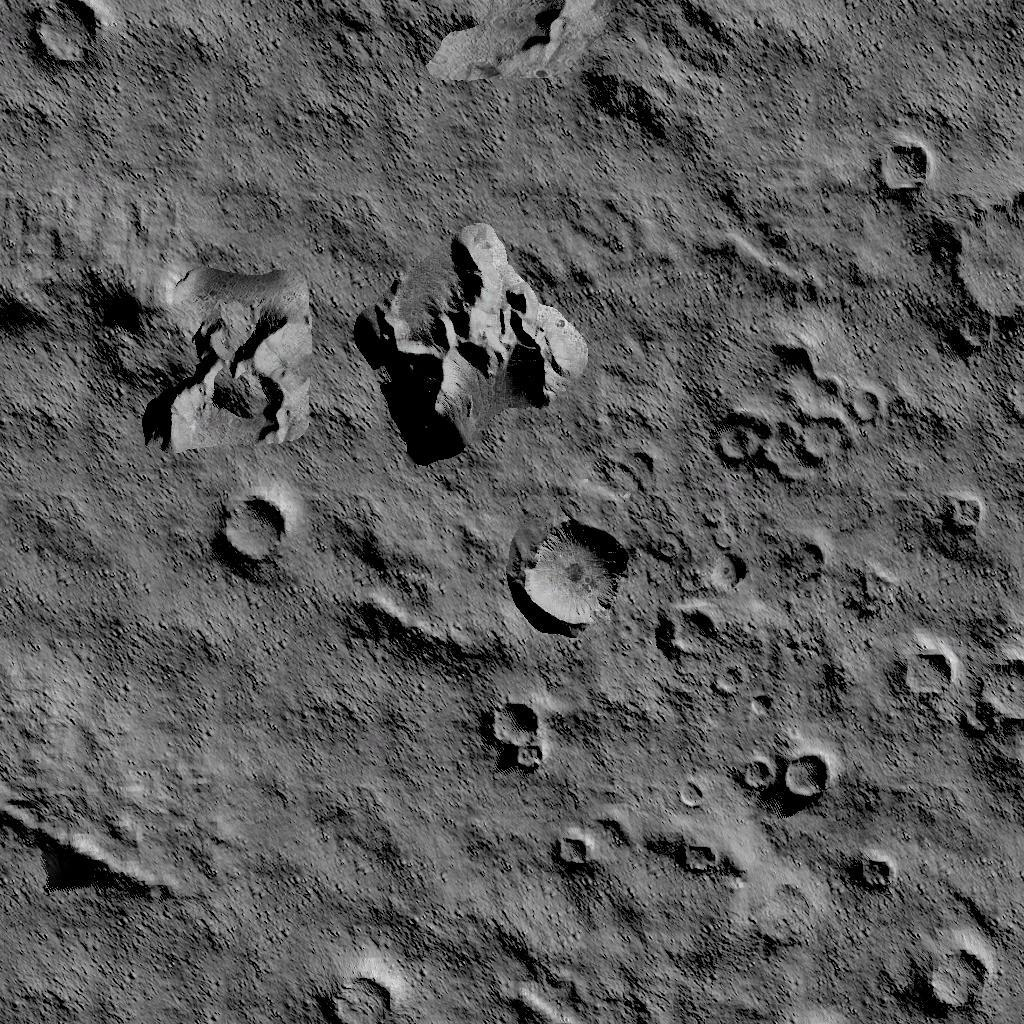Boulders: (0, 218, 320, 458), (348, 218, 590, 476), (322, 0, 634, 98), (330, 511, 494, 669), (0, 768, 198, 898)
Crater: (704, 330, 888, 484), (511, 506, 636, 640), (888, 627, 1024, 740), (944, 188, 1024, 360), (654, 546, 746, 664), (210, 482, 302, 588), (904, 934, 998, 1024), (14, 0, 108, 89), (733, 734, 833, 812), (311, 949, 409, 1024), (476, 694, 556, 778), (864, 136, 929, 204), (843, 835, 902, 906), (666, 823, 732, 884), (936, 487, 993, 541), (544, 822, 600, 874)
Plan surface: (216, 686, 460, 910), (2, 484, 194, 727), (126, 0, 298, 204), (760, 0, 1024, 122), (0, 927, 300, 1024)
